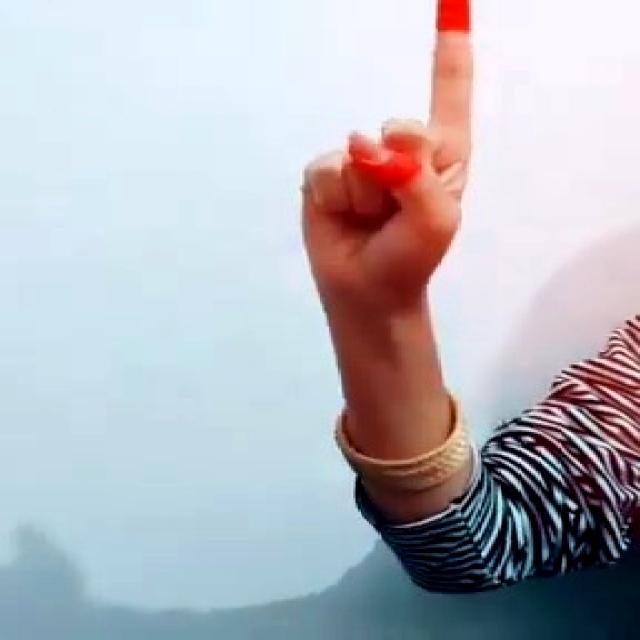Suchi: (290, 0, 510, 311)
bangle: (313, 388, 502, 510)
